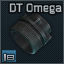SilencerCo Omega 45k direct thread mount adapter: (0, 0, 64, 64)
